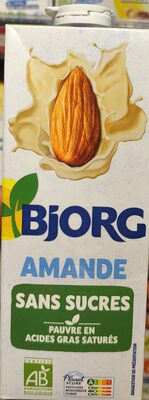Amande sans sucres: (7, 20, 142, 380)
